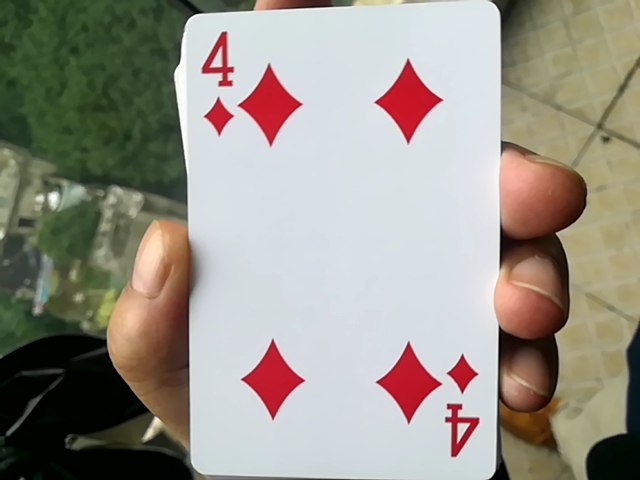fk 4: (159, 0, 499, 475)
